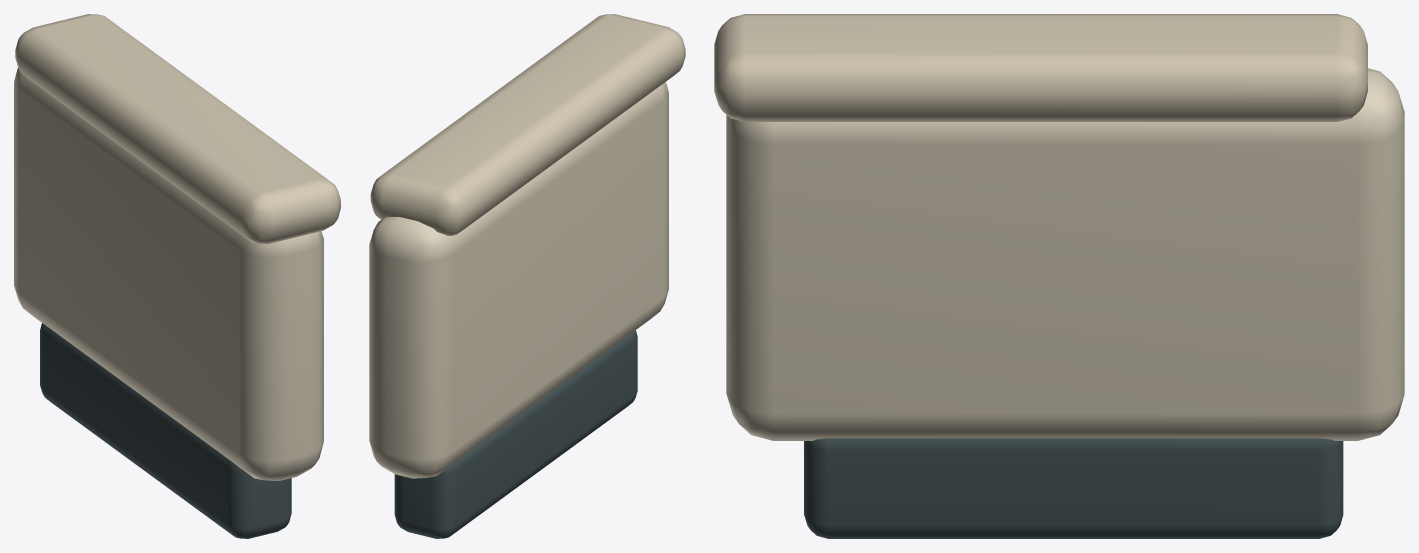
Rendered from sofa-arm.glb.
The picture shows the model from 3 angles, left to right: view 1: azimuth 30°, elevation 25°; view 2: azimuth 150°, elevation 25°; view 3: azimuth 270°, elevation 25°; orthographic projection. The views are drawn at different scales.
Parts seen in each view (by area): view 1: sofa-arm / 01 • warm porcelain paint, sofa-arm / 17 / oatmeal linen, sofa-arm / 06 • dark anodized frame; view 2: sofa-arm / 01 • warm porcelain paint, sofa-arm / 17 / oatmeal linen, sofa-arm / 06 • dark anodized frame; view 3: sofa-arm / 01 • warm porcelain paint, sofa-arm / 17 / oatmeal linen, sofa-arm / 06 • dark anodized frame.
Boxes of the visible parts, x1,y1,x2,y2 form: sofa-arm / 01 • warm porcelain paint: [14, 68, 323, 480]; sofa-arm / 17 / oatmeal linen: [15, 14, 340, 243]; sofa-arm / 06 • dark anodized frame: [40, 323, 291, 538]; sofa-arm / 01 • warm porcelain paint: [369, 82, 668, 478]; sofa-arm / 17 / oatmeal linen: [370, 14, 685, 235]; sofa-arm / 06 • dark anodized frame: [394, 330, 637, 538]; sofa-arm / 01 • warm porcelain paint: [726, 68, 1404, 440]; sofa-arm / 17 / oatmeal linen: [714, 14, 1367, 121]; sofa-arm / 06 • dark anodized frame: [804, 438, 1343, 538].
Size of the model in its own units: 0.18 by 0.665 by 0.845.
